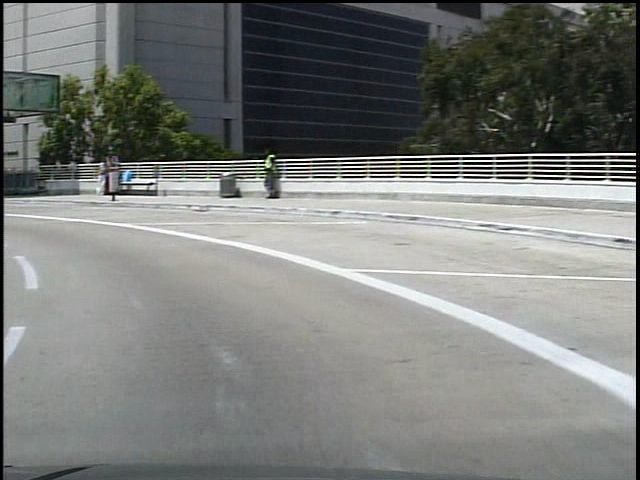person: (253, 144, 275, 201)
